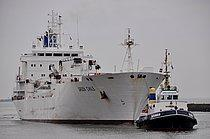Ship: (11, 6, 172, 125)
